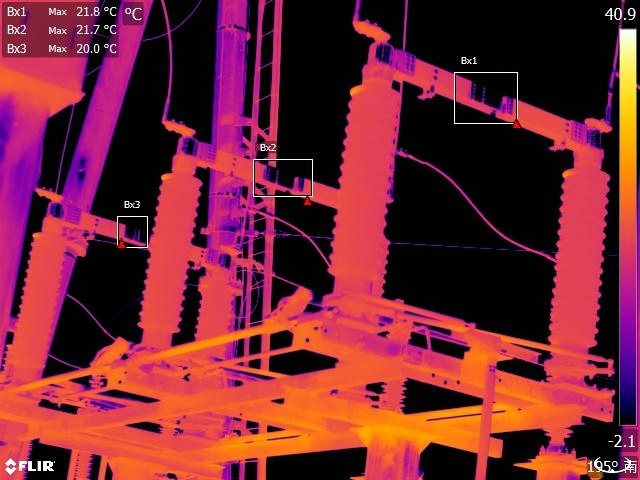post insulator: (318, 83, 406, 285), (536, 168, 614, 346), (131, 173, 203, 339), (1, 232, 69, 386), (182, 270, 236, 369)
switch: (363, 10, 614, 176), (42, 197, 232, 278), (165, 123, 335, 213)
